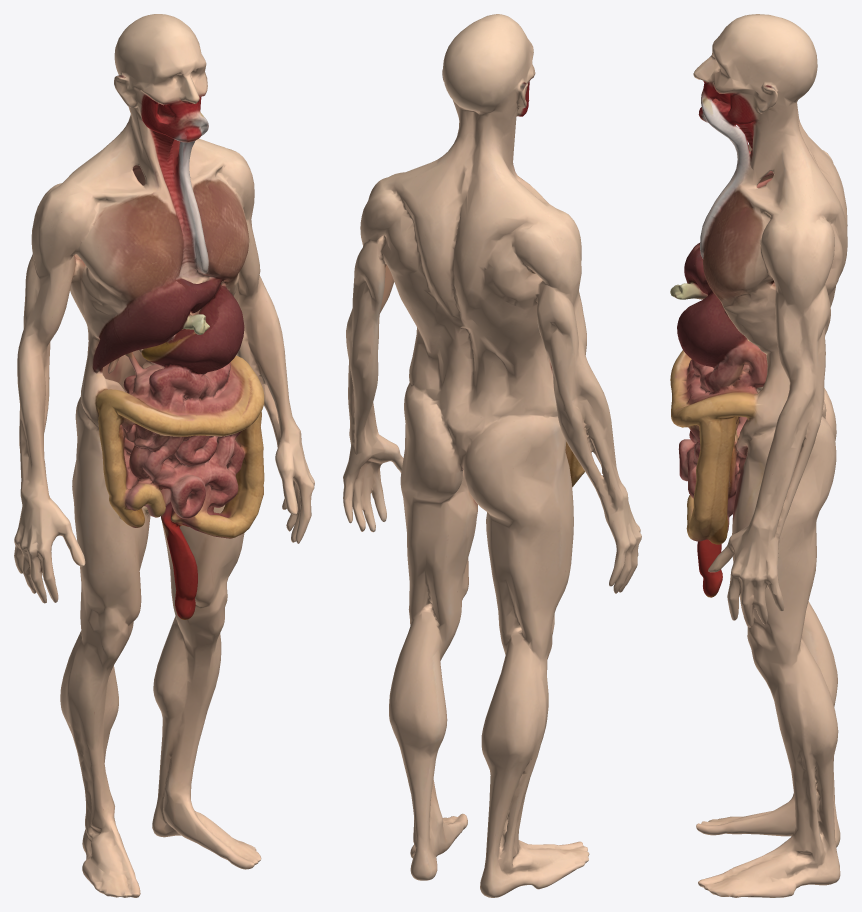
The model's file is Exhibit_DigestiveSystem.glb.
3 views of the same model, side by side, from view 1: azimuth 30°, elevation 25°; view 2: azimuth 150°, elevation 25°; view 3: azimuth 270°, elevation 25° (orthographic).
Size of the model in its own units: 0.6736 by 1.9 by 0.3593.
Materials: 1 (1 with a texture image).
